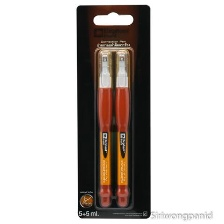book: (73, 1, 152, 220)
correction_fluid: (112, 48, 132, 207), (95, 48, 114, 207)
